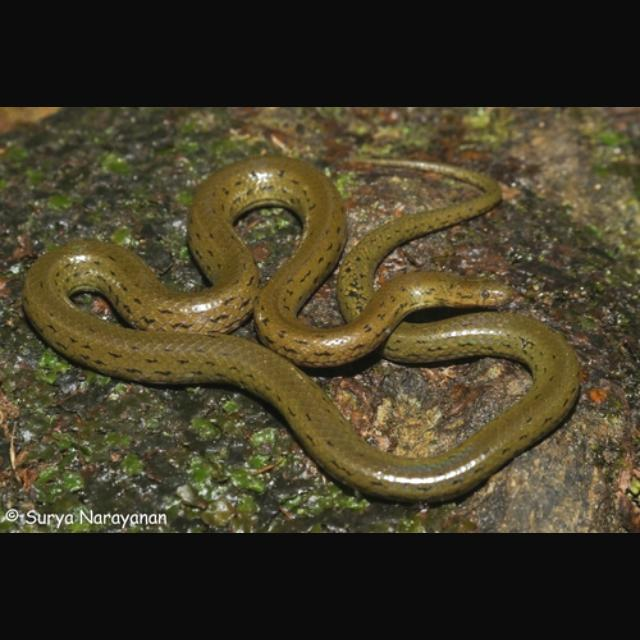snake: (17, 146, 590, 508)
